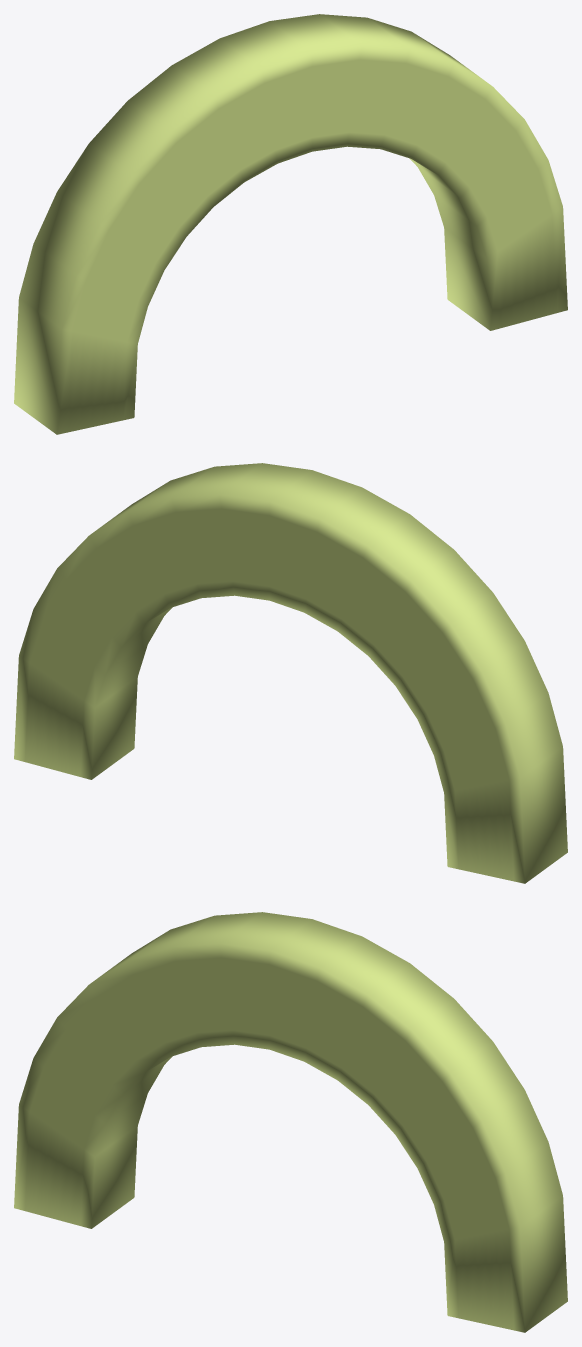
File: rainbow.fbx
3 views of the same model, one above another, from view 1: azimuth 30°, elevation 25°; view 2: azimuth 150°, elevation 25°; view 3: azimuth 330°, elevation 25° (orthographic).
Visible parts, largest first — view 1: Circle; view 2: Circle; view 3: Circle.
Boxes of the visible parts, x1,y1,x2,y2 form: Circle: (14,14,567,434); Circle: (14,463,567,883); Circle: (14,912,567,1332).
Bounding box in the file's own units: 526 × 317 × 76.49.
